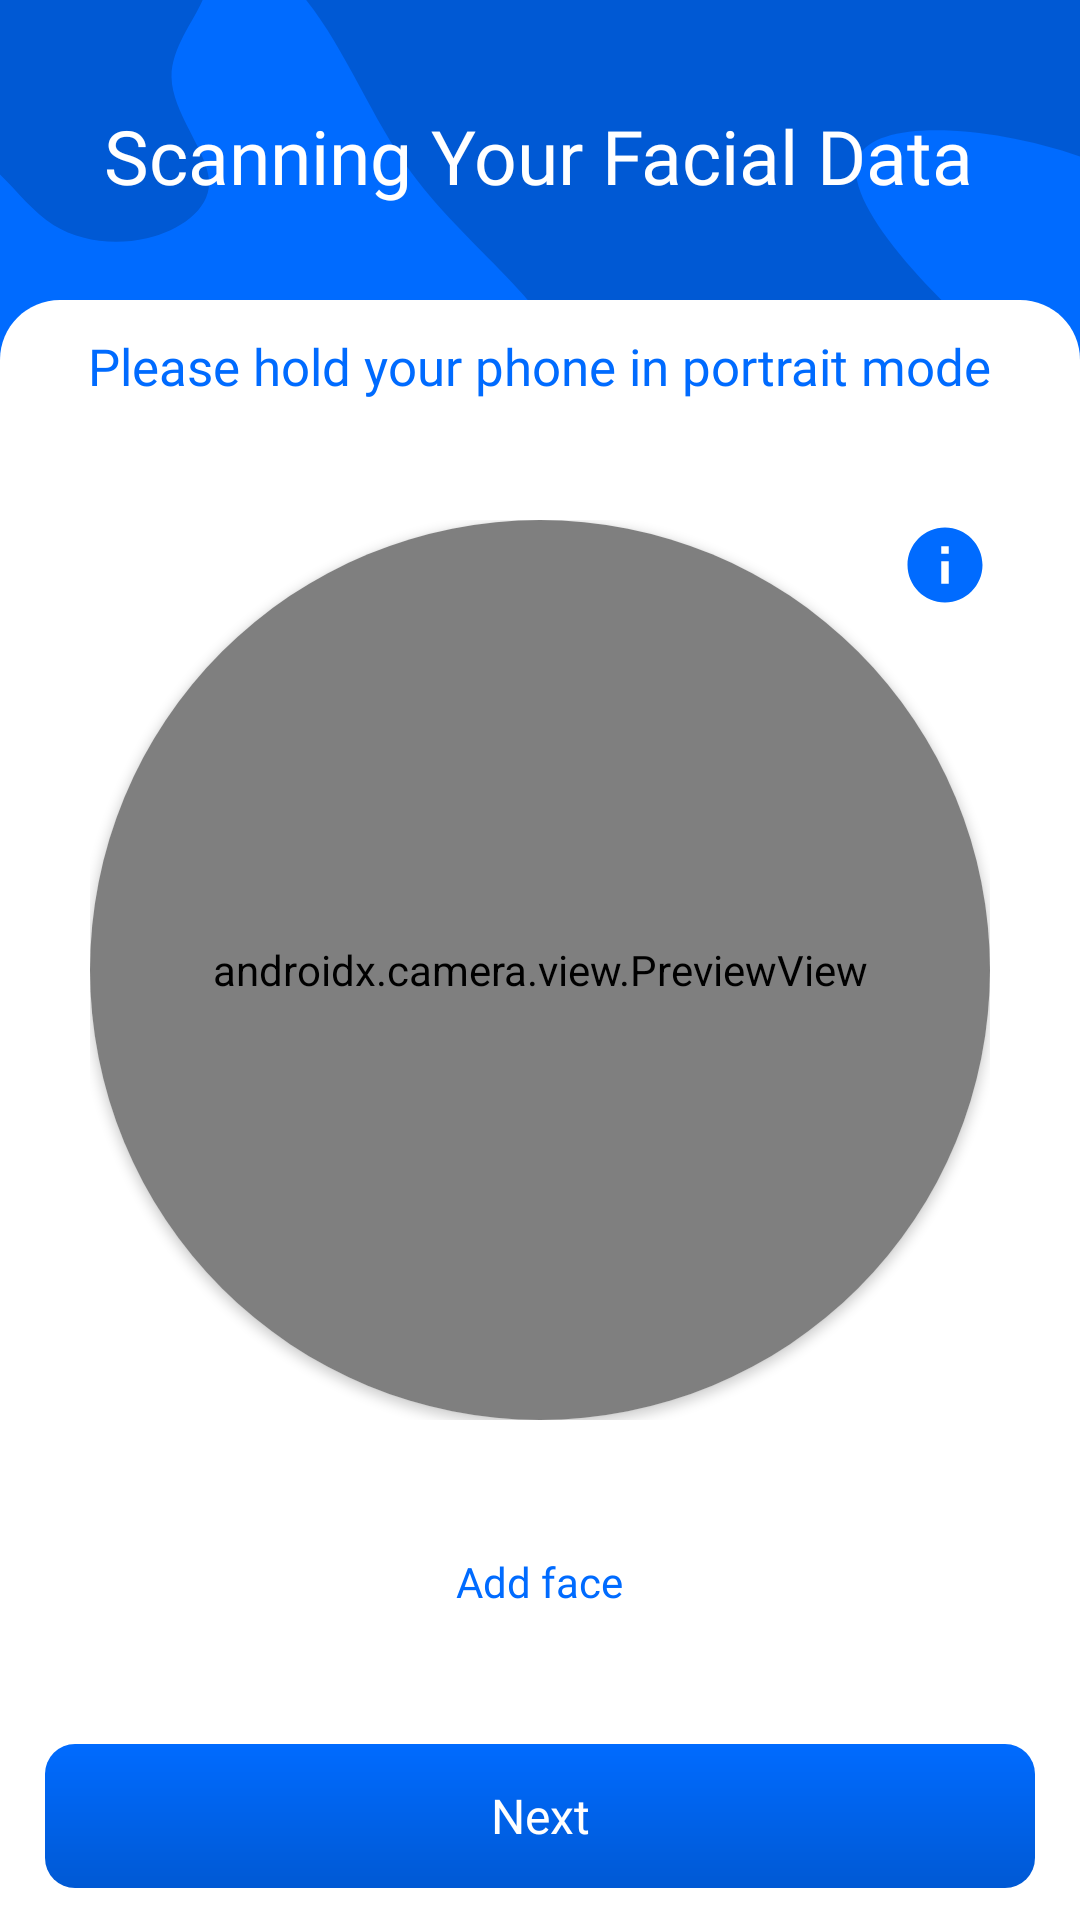

Icon bounding boxes for this 1080x1920 phone screenshot, format (x1, y1, x2, y2):
info: (907, 527, 983, 603)
